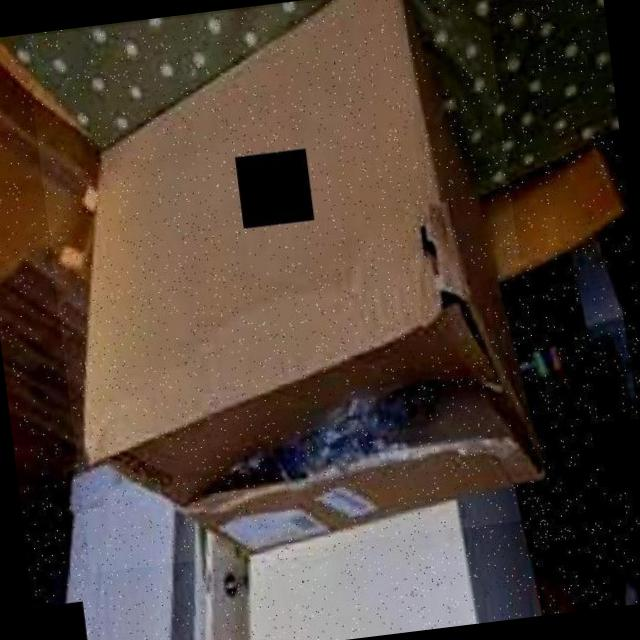box: (25, 0, 550, 573)
